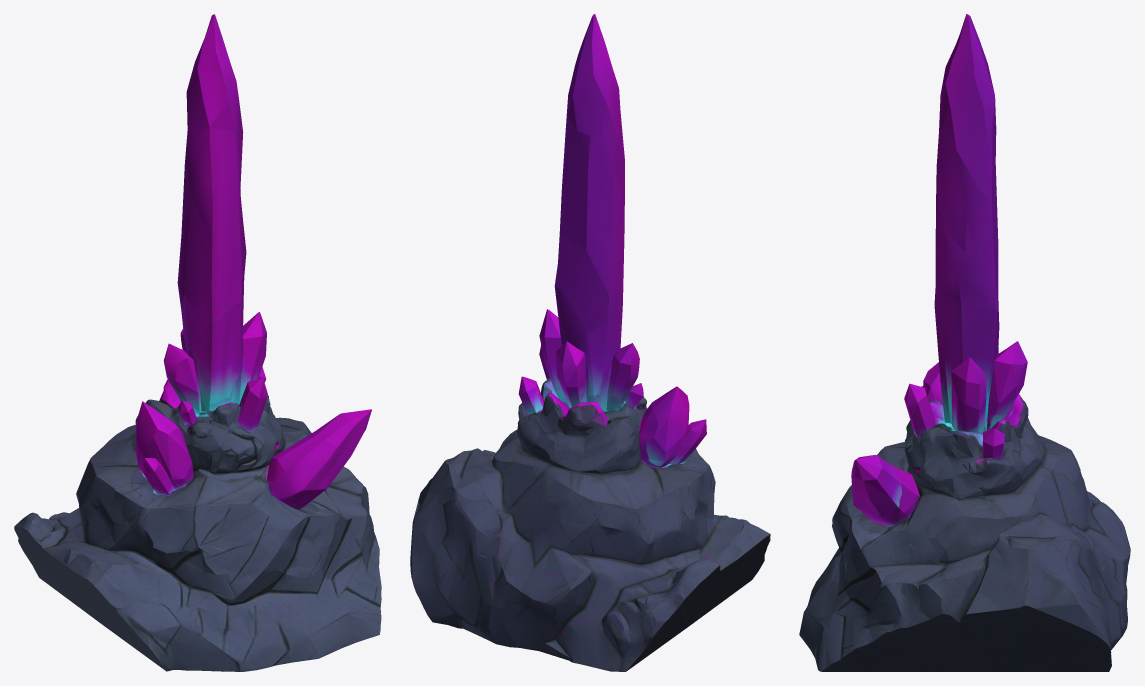
Rendered from crystal-pylon.glb.
3 renders of one model, left to right at view 1: azimuth 30°, elevation 25°; view 2: azimuth 150°, elevation 25°; view 3: azimuth 270°, elevation 25°, orthographic. The views are drawn at different scales.
Bounding box in the file's own units: 1.03 × 1.9 × 0.937.
Materials: 1 (1 with a texture image).
